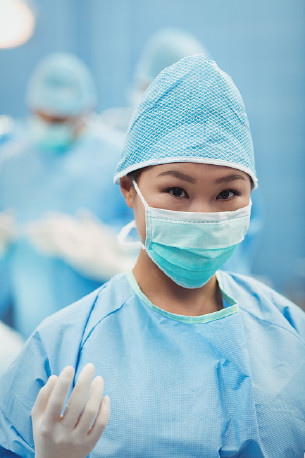face_mask: (142, 166, 248, 286)
